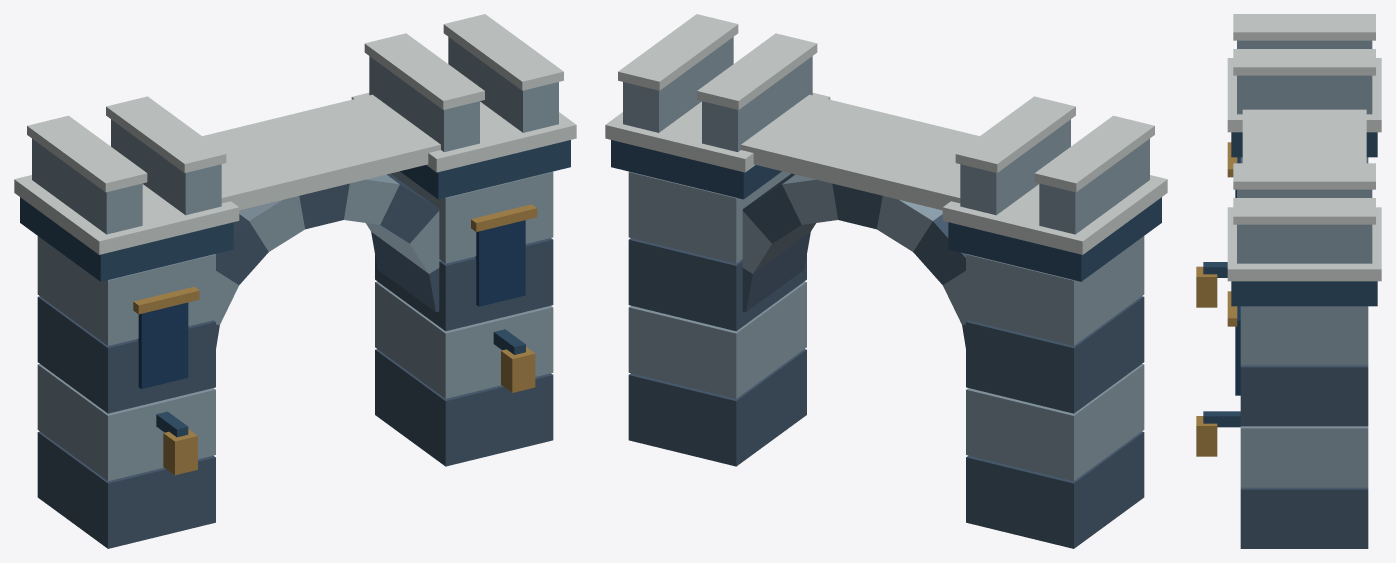
Rendered from frontier-frost-gate.glb.
The picture shows the model from 3 angles, left to right: view 1: azimuth 30°, elevation 25°; view 2: azimuth 150°, elevation 25°; view 3: azimuth 270°, elevation 25°; orthographic projection. The views are drawn at different scales.
Visible parts, largest first — view 1: frontier-frost-gate; view 2: frontier-frost-gate; view 3: frontier-frost-gate.
Part boxes in pixels (left/top/right/bottom): frontier-frost-gate: left=14, top=14, right=576, bottom=548; frontier-frost-gate: left=605, top=14, right=1167, bottom=548; frontier-frost-gate: left=1196, top=14, right=1381, bottom=548.
Bounding box in the file's own units: 6.65 × 4.92 × 2.46.
